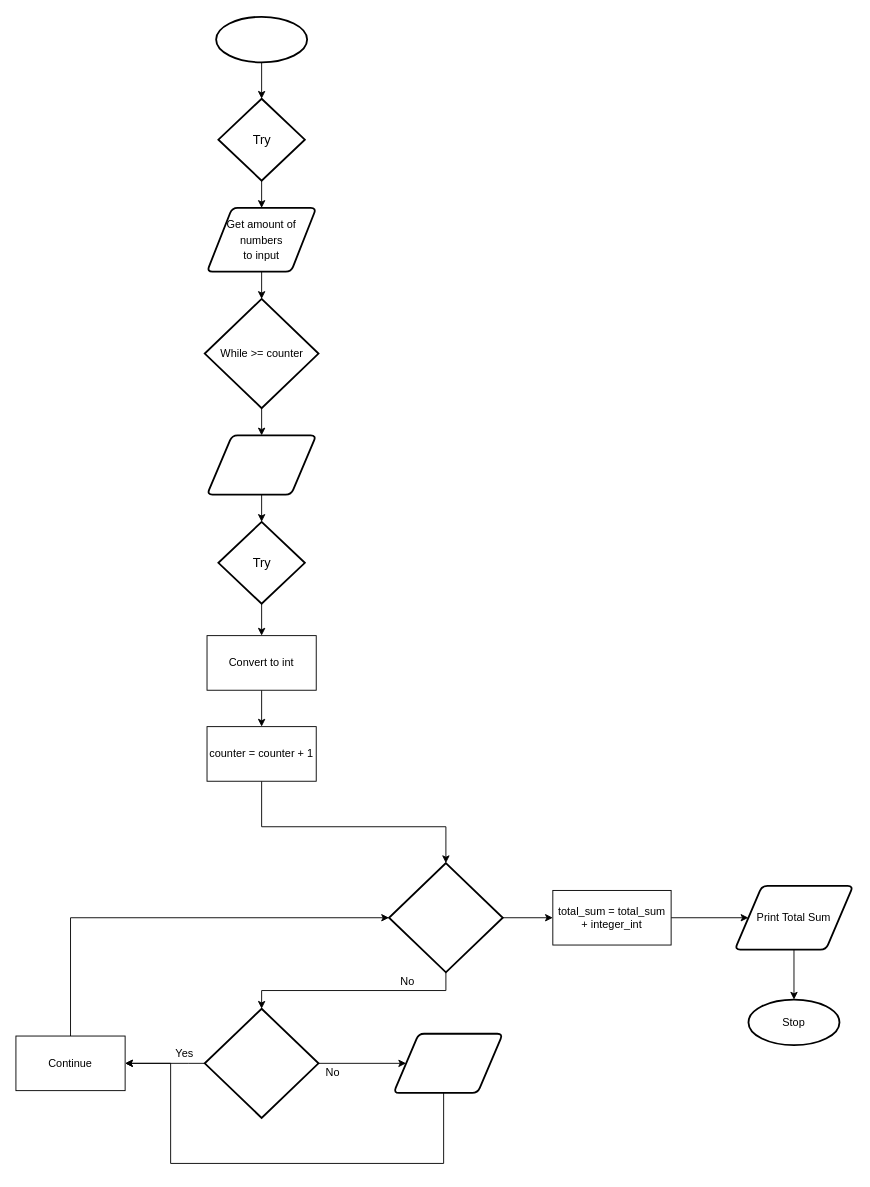
The diagram is 870 pixels wide and 1187 high, and some of its shapes have lost their labels. The box of each missing label's shape, as (x1, y1, x2, y2) in pixels:
Get integer: (206, 434, 317, 495)
Is integer < 0?: (203, 1007, 319, 1118)
Is integer > 0?: (388, 862, 503, 973)
Print "This was not an integer,": (392, 1032, 503, 1093)
Start: (215, 15, 308, 63)
